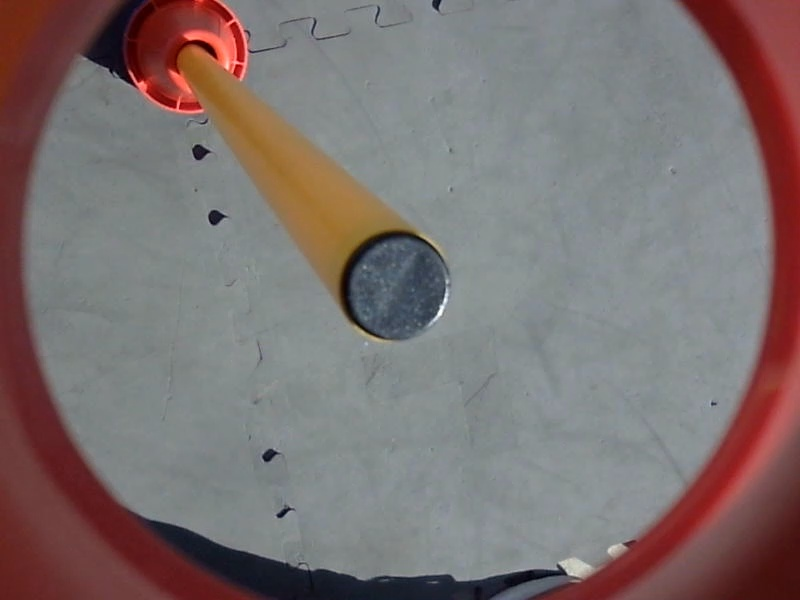tip: (337, 221, 453, 348)
